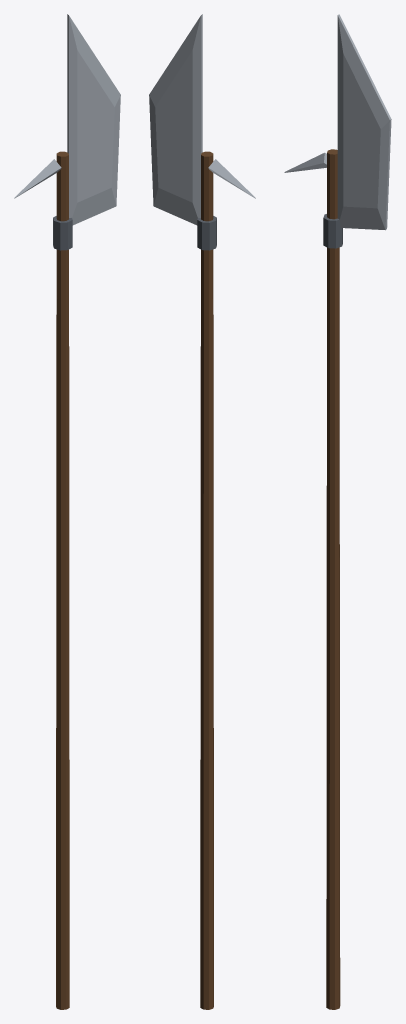
File: g-glaive-voulge.glb
3 views of the same model, side by side, from view 1: azimuth 30°, elevation 25°; view 2: azimuth 150°, elevation 25°; view 3: azimuth 330°, elevation 25° (orthographic).
Parts seen in each view (by area): view 1: g-glaive-voulge; view 2: g-glaive-voulge; view 3: g-glaive-voulge.
Part boxes in pixels (x1=…): g-glaive-voulge: x1=14, y1=14, x2=120, y2=1009; g-glaive-voulge: x1=149, y1=14, x2=255, y2=1009; g-glaive-voulge: x1=284, y1=14, x2=391, y2=1009.
Bounding box in the file's own units: 0.2405 × 2.15 × 0.04.
